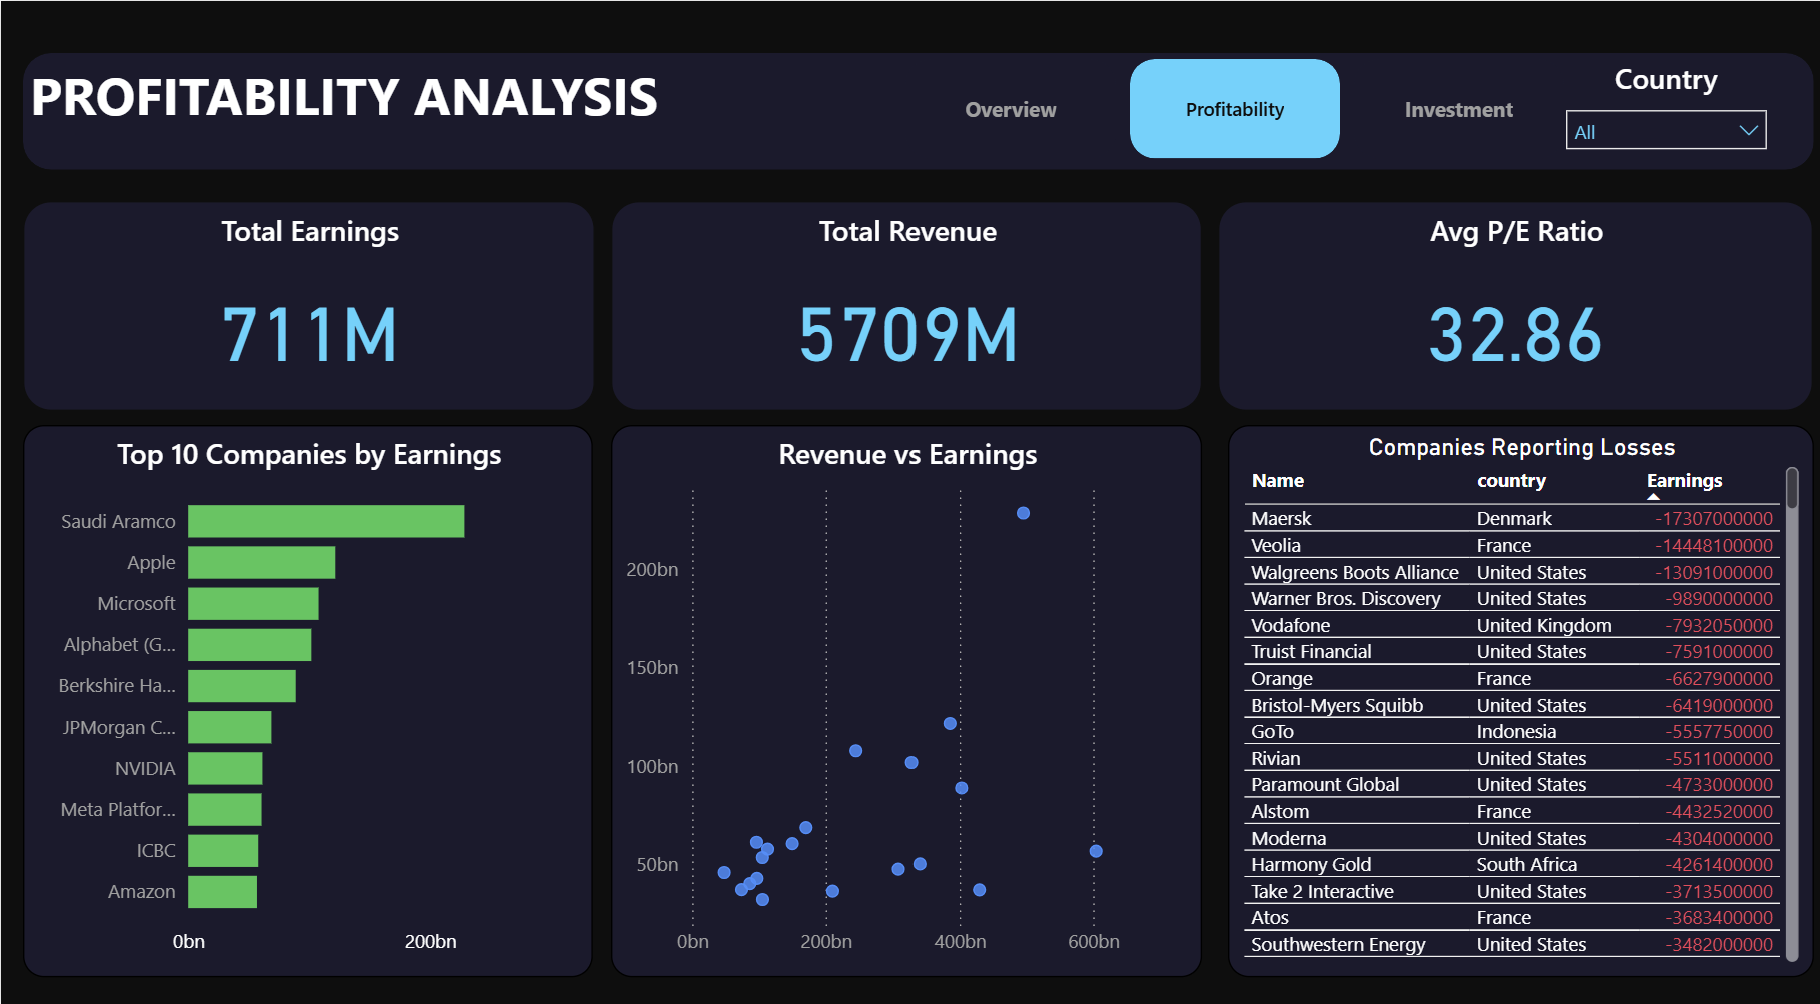

The page's visual inventory and layout, read from the dashboard file:
{"tool":"powerbi","page":{"name":"Profitability","canvas":[1302,720],"ordinal":1},"visuals":[{"type":"shape","box":[15,36.7,1278.3,83.3],"z":0},{"type":"textbox","box":[15,36.2,636.2,83.8],"z":1000},{"type":"slicer","title":"Country","fields":{"Values":["Dim_Country.country"]},"box":[1106.7,41.7,163.3,71.7],"z":2000},{"type":"card","title":"Total Earnings","fields":{"Values":["Avg(Fact_Companies.earnings_ttm)"]},"box":[15,143.3,408.3,150],"z":3000},{"type":"card","title":"Total Revenue","fields":{"Values":["Avg(Fact_Companies.revenue_ttm)"]},"box":[435,143.3,421.7,150],"z":4000},{"type":"card","title":"Avg P/E Ratio","fields":{"Values":["Fact_Companies.Avg PE Ratio"]},"box":[868.3,143.3,425,150],"z":5000},{"type":"barChart","title":"Top 10 Companies by Earnings","fields":{"Category":["Fact_Companies.Name"],"Y":["Sum(Fact_Companies.earnings_ttm)"]},"box":[15.7,302.9,407.1,394.3],"z":6000},{"type":"scatterChart","title":" Revenue vs Earnings ","fields":{"X":["Avg(Fact_Companies.revenue_ttm)"],"Y":["Avg(Fact_Companies.earnings_ttm)"],"Category":["Fact_Companies.Name"]},"box":[435.7,302.9,421.4,394.3],"z":7000},{"type":"tableEx","title":"Companies Reporting Losses","fields":{"Values":["Fact_Companies.Name","Fact_Companies.country","Sum(Fact_Companies.earnings_ttm)"]},"box":[875.7,302.9,418.6,394.3],"z":8000},{"type":"pageNavigator","box":[646.2,41.2,472,71.2],"z":9000}]}

Visuals, with their boxes in screenshot pixels (x1, y1, x2, y2), scaled from the page's 1302x720 canvas onto the 1820x1004 screenshot:
shape: locate(21, 51, 1808, 167)
textbox: locate(21, 50, 910, 167)
"Country" slicer: locate(1547, 58, 1775, 158)
"Total Earnings" card: locate(21, 200, 592, 409)
"Total Revenue" card: locate(608, 200, 1198, 409)
"Avg P/E Ratio" card: locate(1214, 200, 1808, 409)
"Top 10 Companies by Earnings" barChart: locate(22, 422, 591, 972)
" Revenue vs Earnings " scatterChart: locate(609, 422, 1198, 972)
"Companies Reporting Losses" tableEx: locate(1224, 422, 1809, 972)
pageNavigator: locate(903, 57, 1563, 157)
